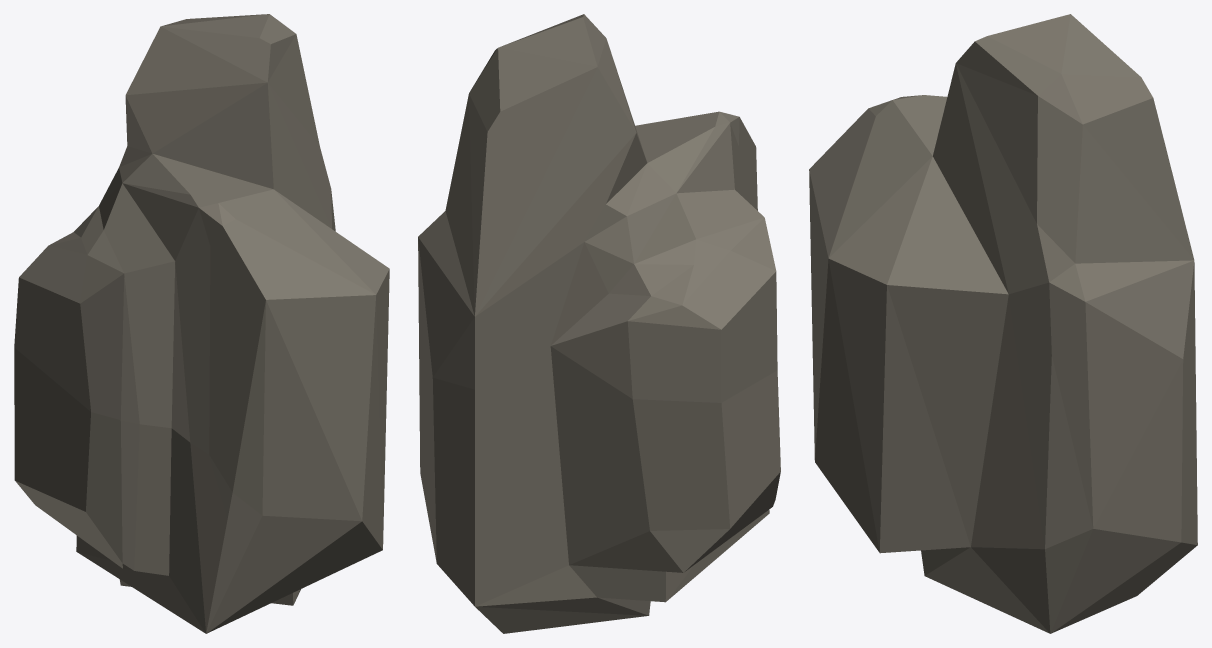
The model's file is rock__rock3_cave_light.glb.
3 renders of one model, left to right at view 1: azimuth 30°, elevation 25°; view 2: azimuth 150°, elevation 25°; view 3: azimuth 270°, elevation 25°, orthographic.
Visible parts, largest first — view 1: rock3.cave.light; view 2: rock3.cave.light; view 3: rock3.cave.light.
Part boxes in pixels (<box>): rock3.cave.light: <box>14,14,389,633</box>; rock3.cave.light: <box>418,14,780,633</box>; rock3.cave.light: <box>809,14,1197,633</box>.
Bounding box in the file's own units: 3.44 × 5.94 × 3.75.
Materials: 1 (1 with a texture image).
